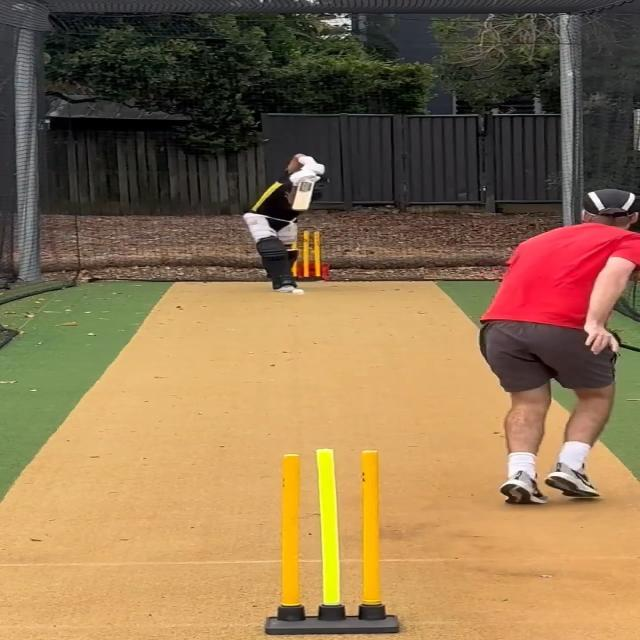ball: (292, 289, 305, 296)
stump: (264, 445, 401, 634)
